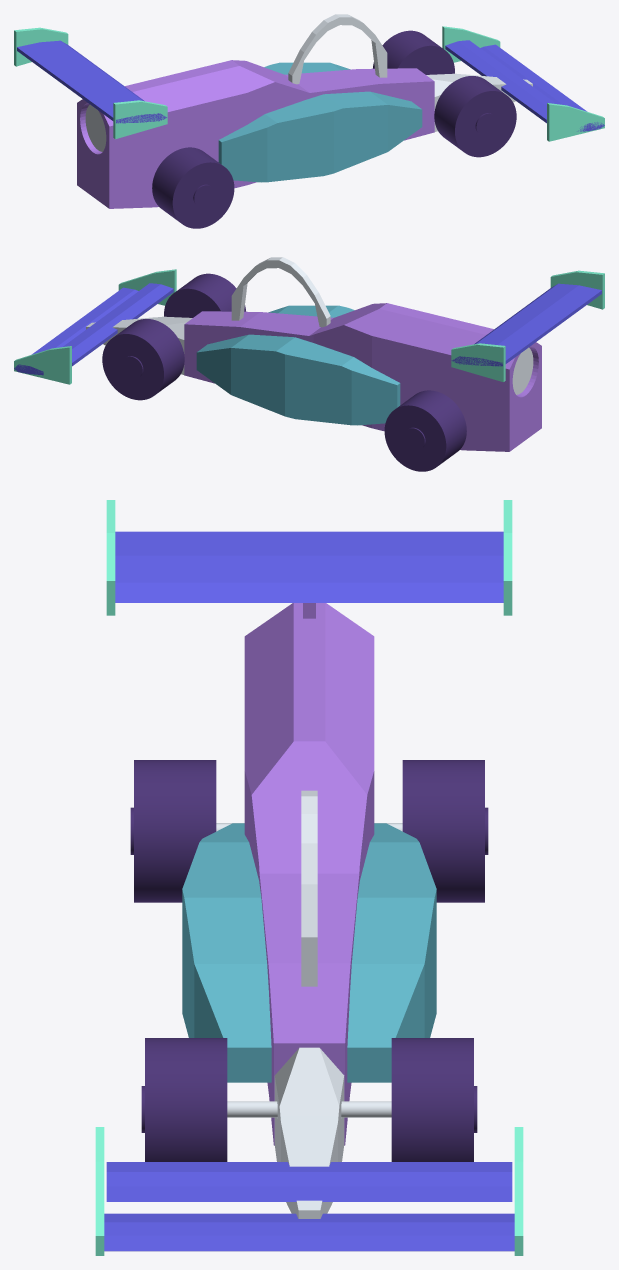
3 views of the same model, one above another, from view 1: azimuth 30°, elevation 25°; view 2: azimuth 150°, elevation 25°; view 3: azimuth 270°, elevation 25° (orthographic). The views are drawn at different scales.
Parts seen in each view (by area): view 1: 01_Cuerpo, 02_Ponton_der, 19_Llanta_tras_der, 17_Llanta_del_der, 09_Aleron_tras, 06_Aleron_del_flap, 16_Llanta_del_izq, 13_Halo_MARCADOR, 10_Placa_tras_der, 07_Placa_del_der, 05_Aleron_del_principal, 11_Placa_tras_izq (+4 smaller); view 2: 01_Cuerpo, 03_Ponton_izq, 18_Llanta_tras_izq, 16_Llanta_del_izq, 09_Aleron_tras, 06_Aleron_del_flap, 17_Llanta_del_der, 13_Halo_MARCADOR, 11_Placa_tras_izq, 05_Aleron_del_principal, 08_Placa_del_izq, 10_Placa_tras_der (+4 smaller); view 3: 01_Cuerpo, 09_Aleron_tras, 02_Ponton_der, 03_Ponton_izq, 06_Aleron_del_flap, 05_Aleron_del_principal, 16_Llanta_del_izq, 17_Llanta_del_der, 18_Llanta_tras_izq, 19_Llanta_tras_der, 04_Nariz, 13_Halo_MARCADOR (+5 smaller).
Boxes of the visible parts, x1,y1,x2,y2 form: 01_Cuerpo: (77, 60, 434, 208); 02_Ponton_der: (218, 91, 422, 182); 19_Llanta_tras_der: (152, 147, 234, 228); 17_Llanta_del_der: (434, 76, 516, 157); 09_Aleron_tras: (17, 40, 166, 123); 06_Aleron_del_flap: (445, 40, 555, 123); 16_Llanta_del_izq: (373, 30, 454, 74); 13_Halo_MARCADOR: (288, 14, 387, 84); 10_Placa_tras_der: (113, 100, 167, 139); 07_Placa_del_der: (547, 103, 604, 141); 05_Aleron_del_principal: (480, 44, 604, 131); 11_Placa_tras_izq: (14, 27, 68, 66); 01_Cuerpo: (184, 303, 541, 451); 03_Ponton_izq: (196, 334, 400, 425); 18_Llanta_tras_izq: (384, 390, 466, 471); 16_Llanta_del_izq: (102, 319, 184, 400); 09_Aleron_tras: (451, 283, 601, 366); 06_Aleron_del_flap: (63, 283, 173, 366); 17_Llanta_del_der: (164, 273, 245, 317); 13_Halo_MARCADOR: (231, 257, 330, 327); 11_Placa_tras_izq: (451, 343, 505, 382); 05_Aleron_del_principal: (14, 287, 138, 375); 08_Placa_del_izq: (14, 346, 71, 384); 10_Placa_tras_der: (550, 270, 604, 309); 01_Cuerpo: (244, 603, 374, 1145); 09_Aleron_tras: (115, 531, 503, 602); 02_Ponton_der: (182, 823, 271, 1082); 03_Ponton_izq: (347, 823, 436, 1082); 06_Aleron_del_flap: (106, 1162, 512, 1201); 05_Aleron_del_principal: (104, 1213, 514, 1251); 16_Llanta_del_izq: (391, 1038, 477, 1161); 17_Llanta_del_der: (141, 1038, 227, 1161); 18_Llanta_tras_izq: (402, 760, 488, 902); 19_Llanta_tras_der: (130, 760, 216, 902); 04_Nariz: (274, 1047, 344, 1218); 13_Halo_MARCADOR: (301, 790, 317, 986).
Size of the model in its own units: 0.205 by 0.061 by 0.078.
